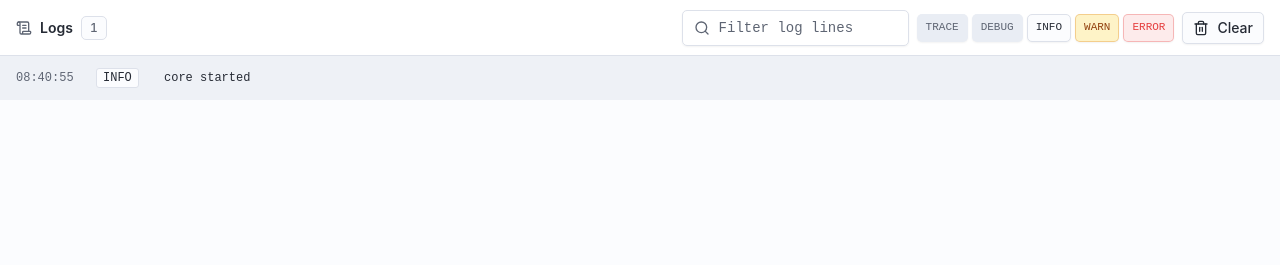
LogsScreen › shows a no-matches state when filters exclude every line
Type "zzzz" into the search field labelled "Filter log lines" at (795, 28), box [682, 10, 909, 46]
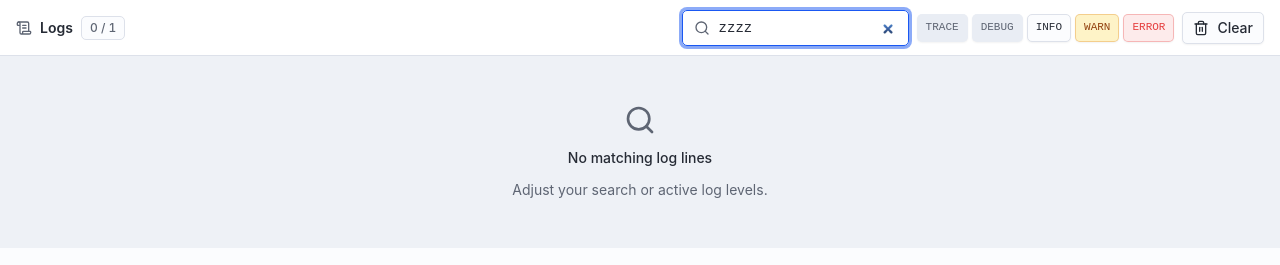
Now the text "No matching log lines" is shown, box [568, 148, 712, 168]
Now no list items with test id "log-line" are shown
